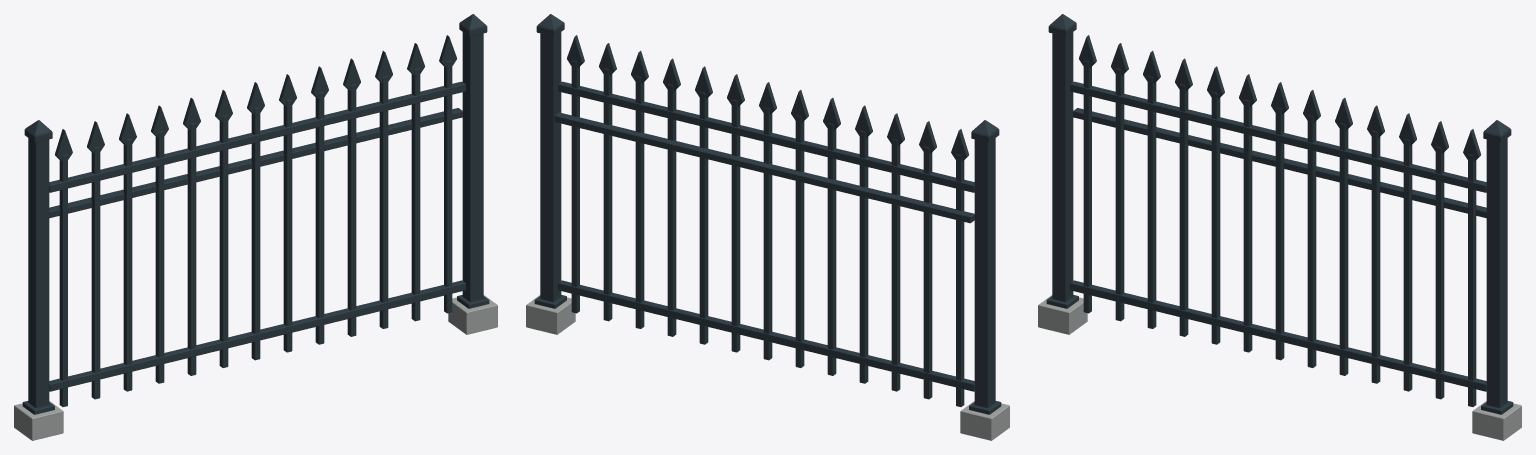
Rendered from b19_aluminum_spear_fence.glb.
3 views of the same model, side by side, from view 1: azimuth 30°, elevation 25°; view 2: azimuth 150°, elevation 25°; view 3: azimuth 330°, elevation 25° (orthographic).
Parts seen in each view (by area): view 1: b19_aluminum_spear_fence; view 2: b19_aluminum_spear_fence; view 3: b19_aluminum_spear_fence.
Part boxes in pixels (<box>): b19_aluminum_spear_fence: <box>14,14,497,440</box>; b19_aluminum_spear_fence: <box>526,14,1009,440</box>; b19_aluminum_spear_fence: <box>1038,14,1521,440</box>.
Size of the model in its own units: 2.58 by 1.64 by 0.175.
